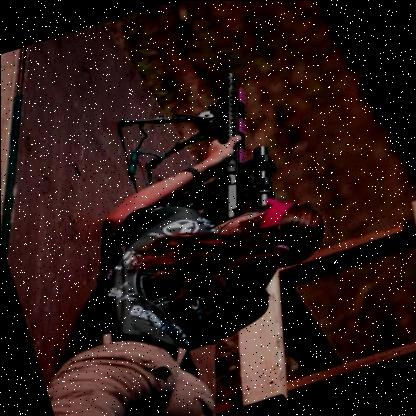rifle: (136, 67, 299, 249)
